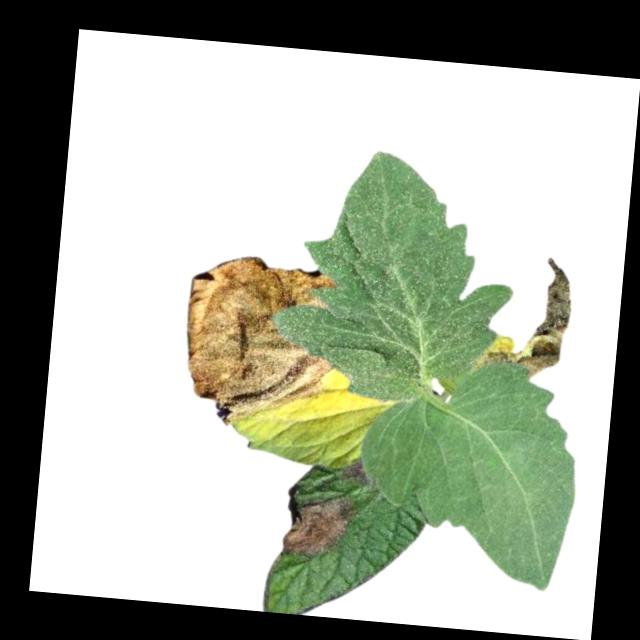Late_blight: (177, 249, 343, 435), (476, 250, 578, 383), (279, 488, 357, 561), (339, 454, 375, 490)
healthy: (265, 142, 525, 412), (350, 351, 583, 592)
